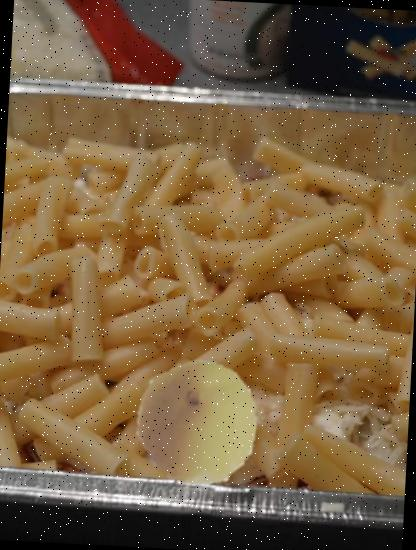Peach: (134, 356, 268, 489)
